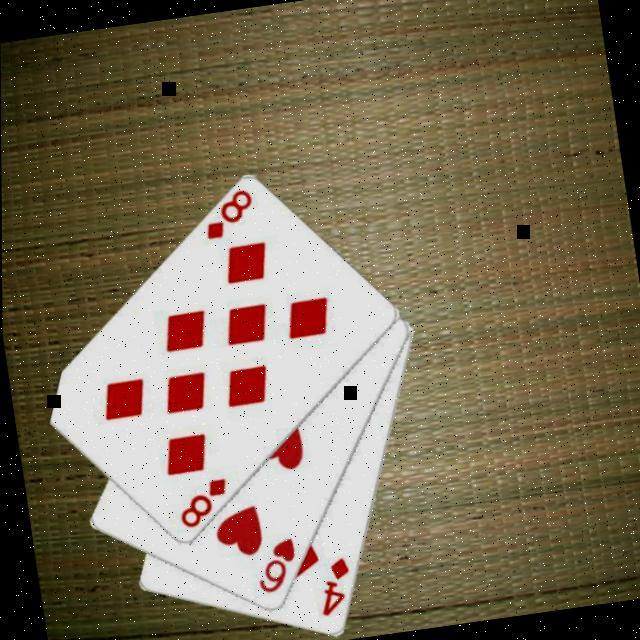4D: (309, 552, 356, 619)
6H: (246, 533, 302, 597)
8D: (169, 472, 232, 531), (194, 184, 258, 242)
